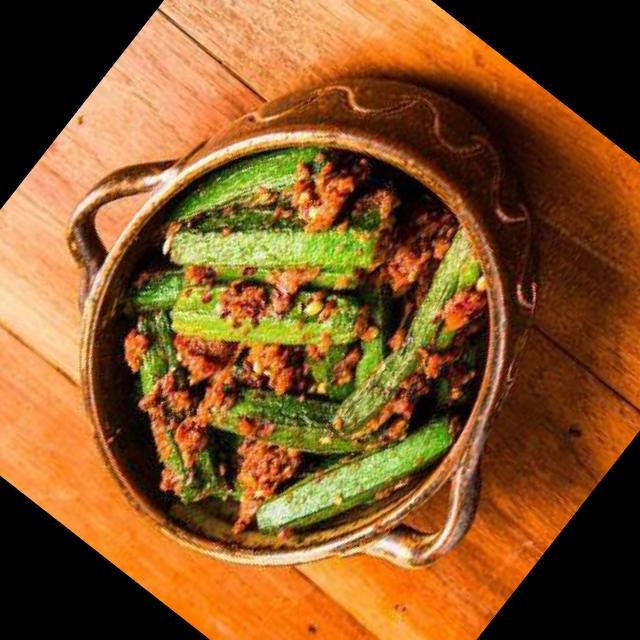BhindiMasala: (28, 72, 565, 614)
